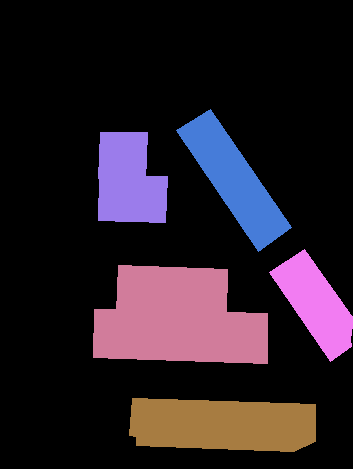parkingspot: (176, 109, 291, 251), (129, 398, 315, 451), (269, 249, 353, 361), (93, 309, 267, 363), (116, 265, 227, 316), (98, 175, 167, 222), (98, 132, 147, 180)
